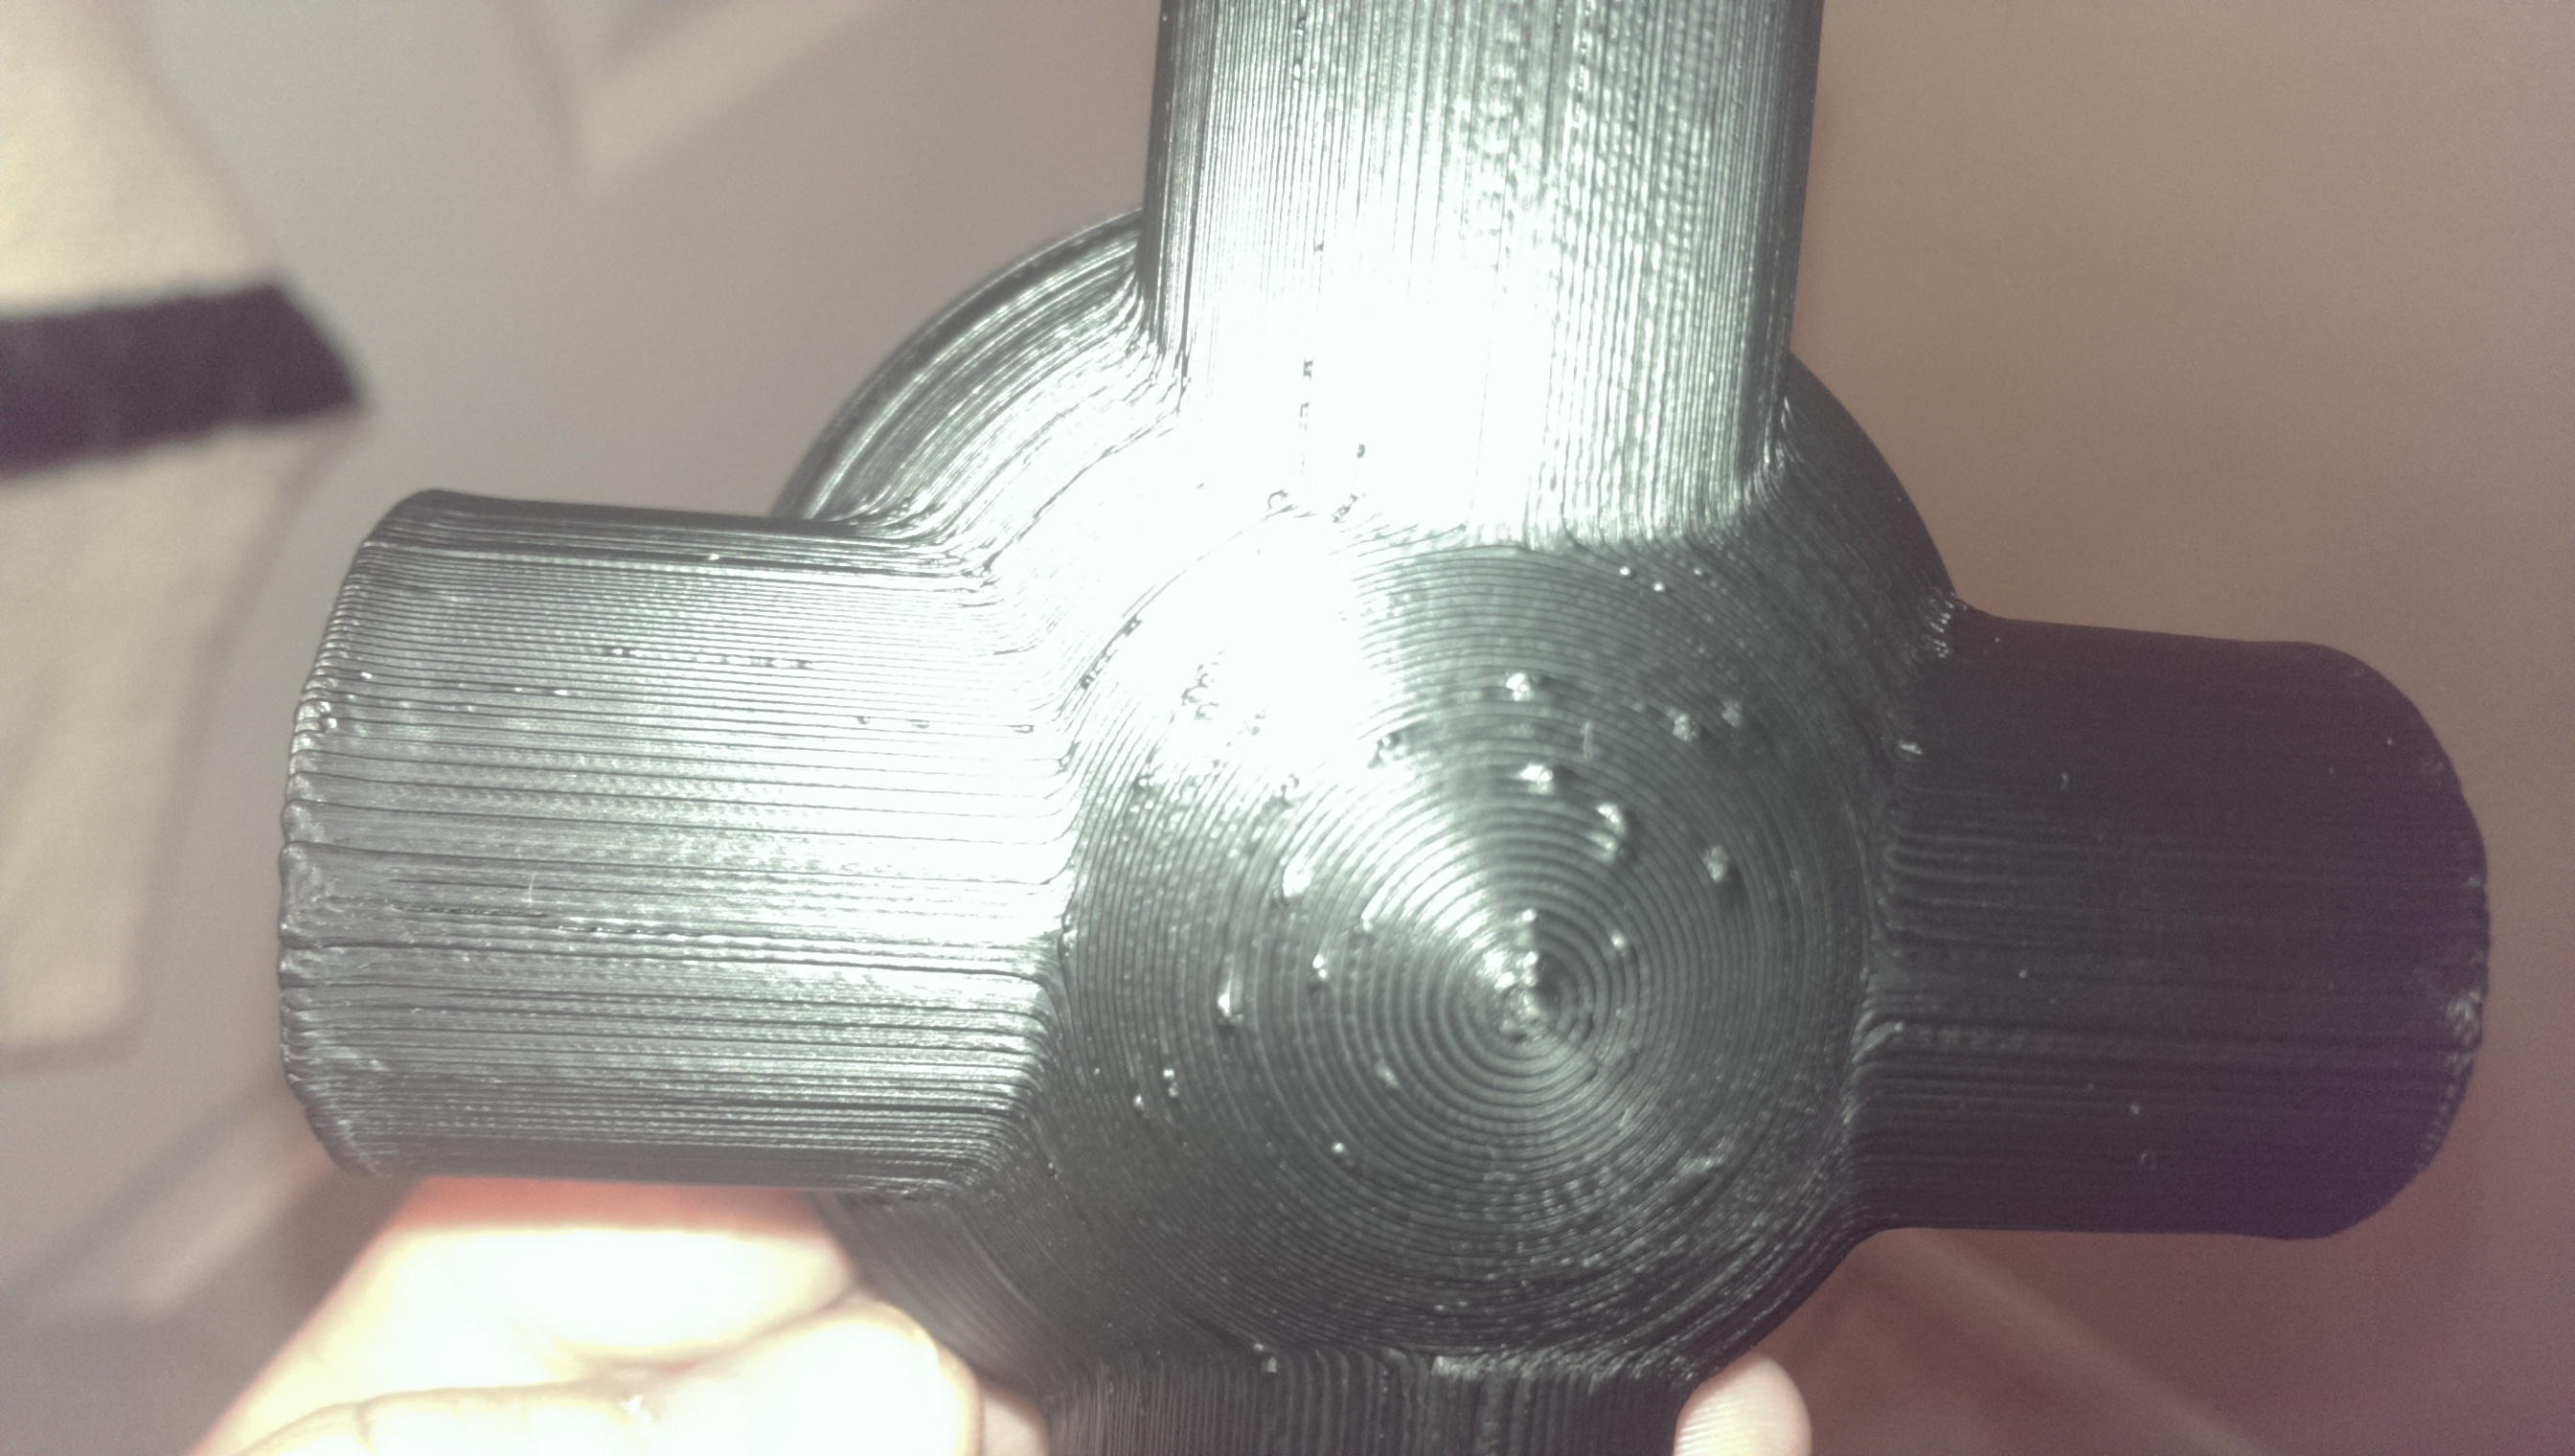blob: (1431, 630, 1829, 980), (1245, 854, 1371, 1005), (1650, 1090, 1756, 1203), (1337, 1031, 1456, 1132), (1160, 984, 1298, 1056)
